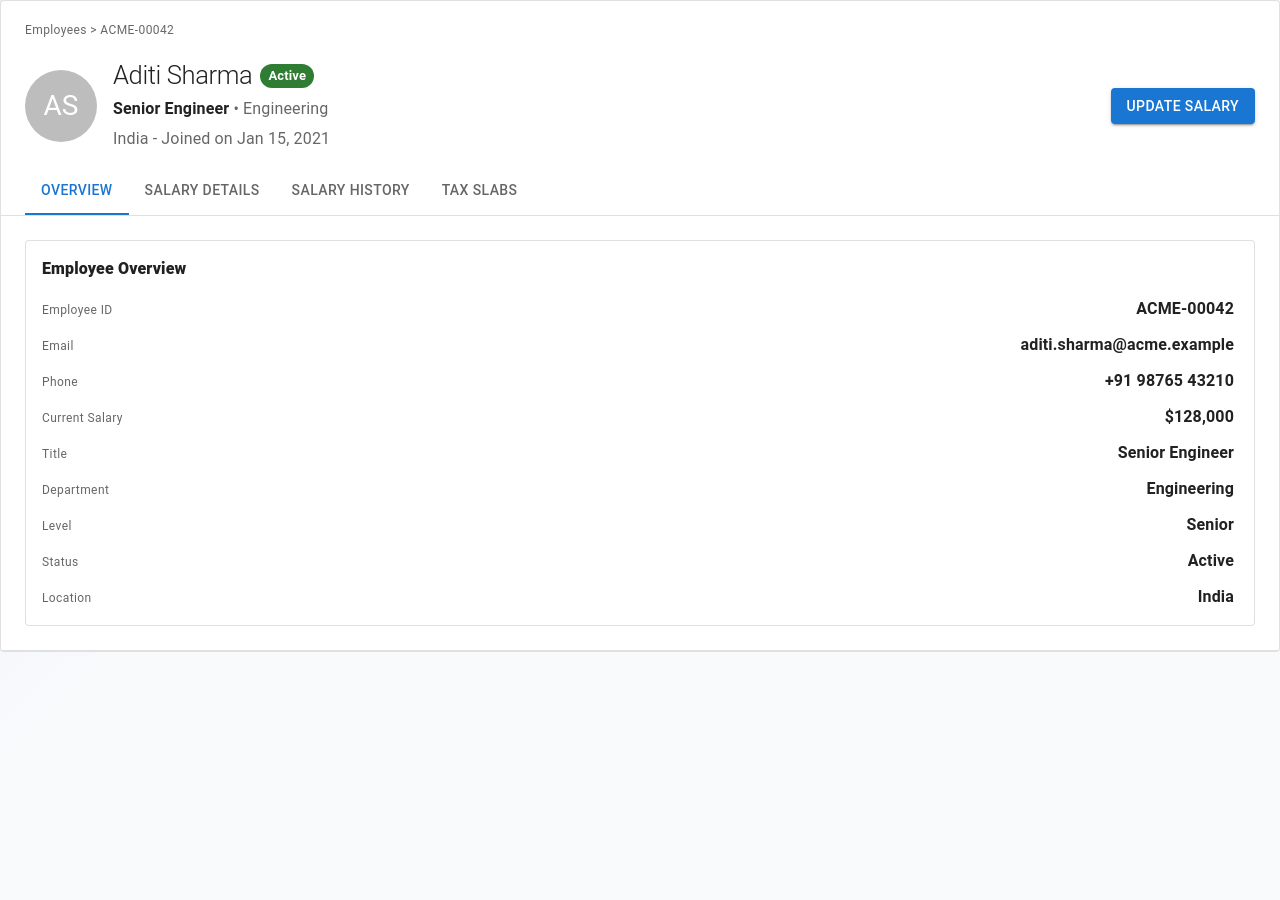
Test: EmployeeProfile › loads the salary history section when the tab is opened
Click the tab "Salary History". click: (351, 191)
box: [276,167,426,215]
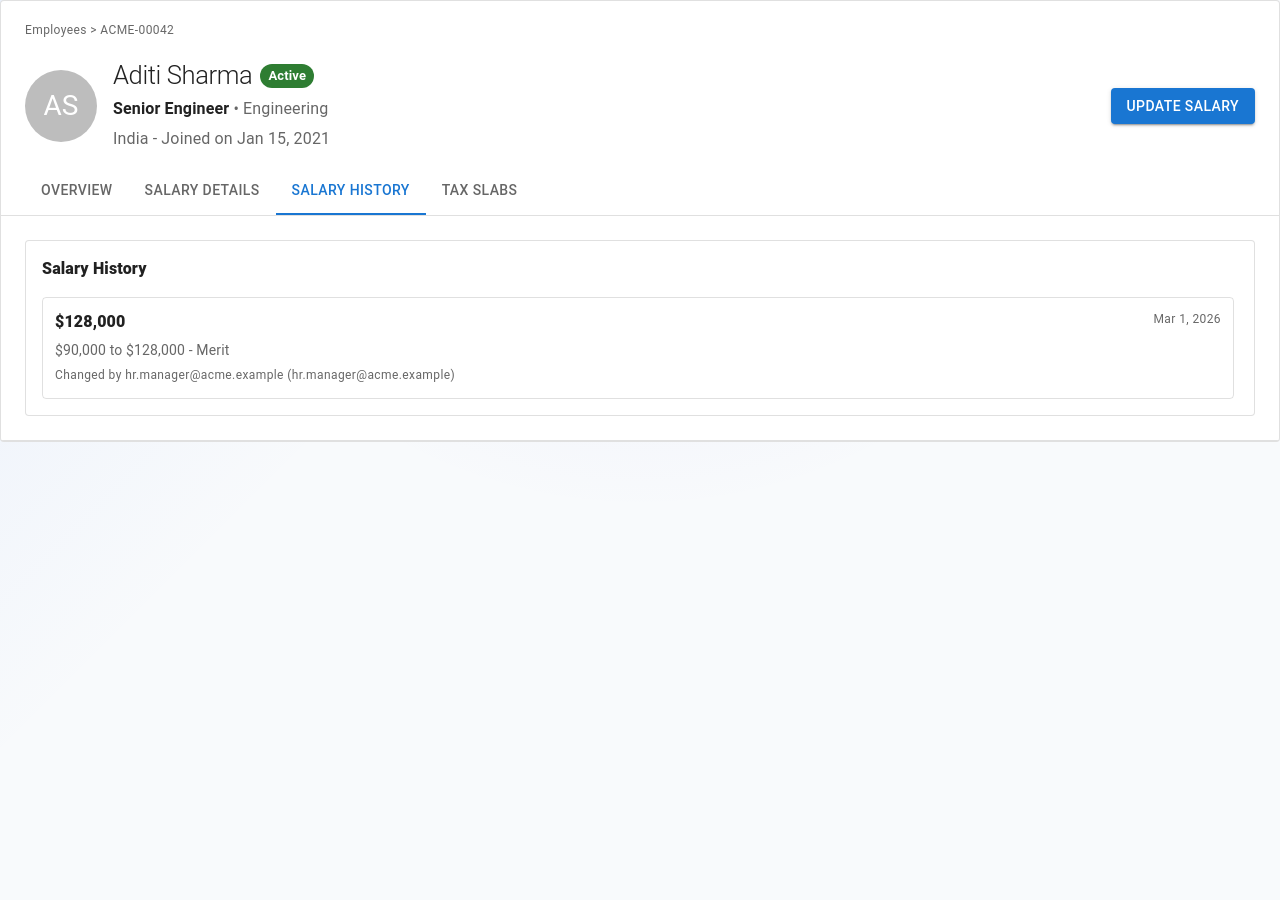
Expected: the text "$90,000 to $128,000 - Merit" is shown, [55,342,230,358]
Expected: the text "Changed by hr.manager@acme.example (hr.manager@acme.example)" is shown, [55,368,455,382]
